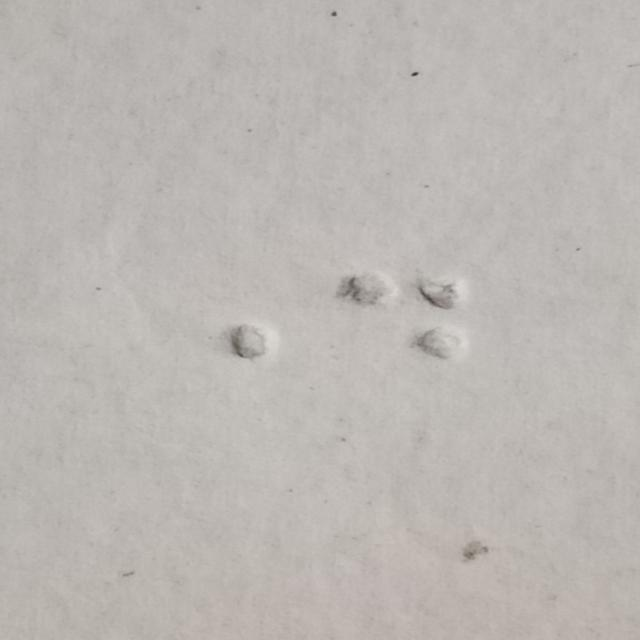dalaga: (345, 274, 468, 402)
dot_5: (152, 274, 275, 402)
